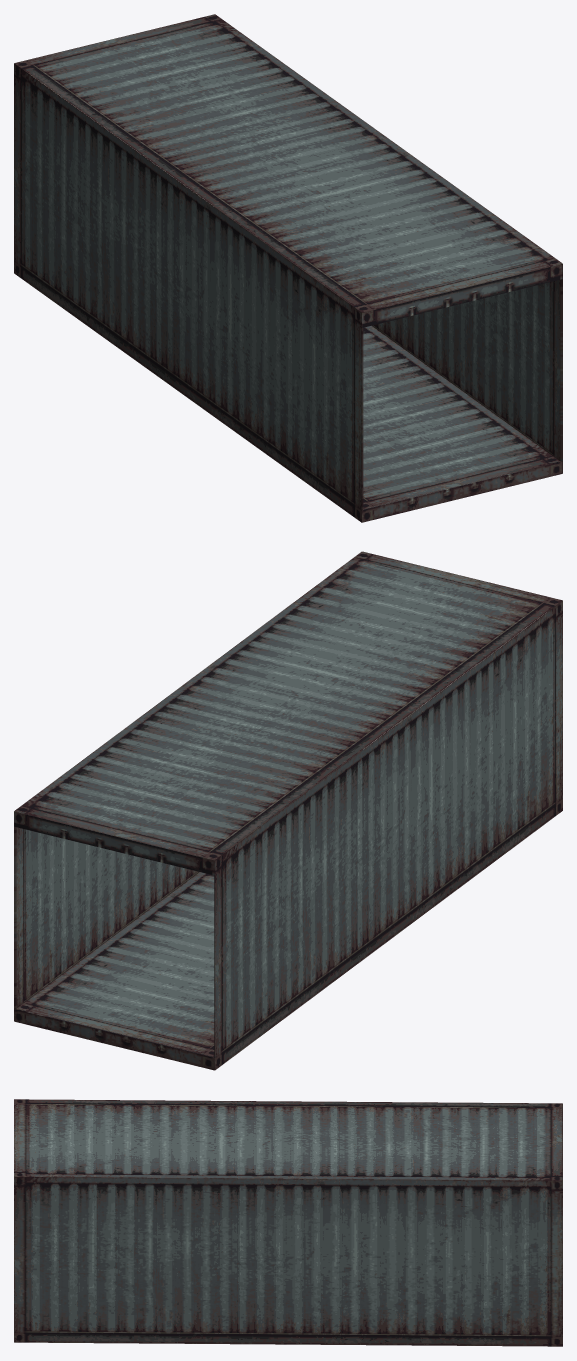
Rendered from SM_EC_ShippingContainer_2.fbx.
3 renders of one model, top to bottom at view 1: azimuth 30°, elevation 25°; view 2: azimuth 150°, elevation 25°; view 3: azimuth 270°, elevation 25°, orthographic. The views are drawn at different scales.
Parts seen in each view (by area): view 1: SM_EC_ShippingContainer_2; view 2: SM_EC_ShippingContainer_2; view 3: SM_EC_ShippingContainer_2.
Boxes of the visible parts, bbox=[...] form: SM_EC_ShippingContainer_2: bbox=[14, 14, 562, 522]; SM_EC_ShippingContainer_2: bbox=[14, 551, 562, 1070]; SM_EC_ShippingContainer_2: bbox=[14, 1099, 562, 1346].
Size of the model in its own units: 3 by 9 by 3.07.
